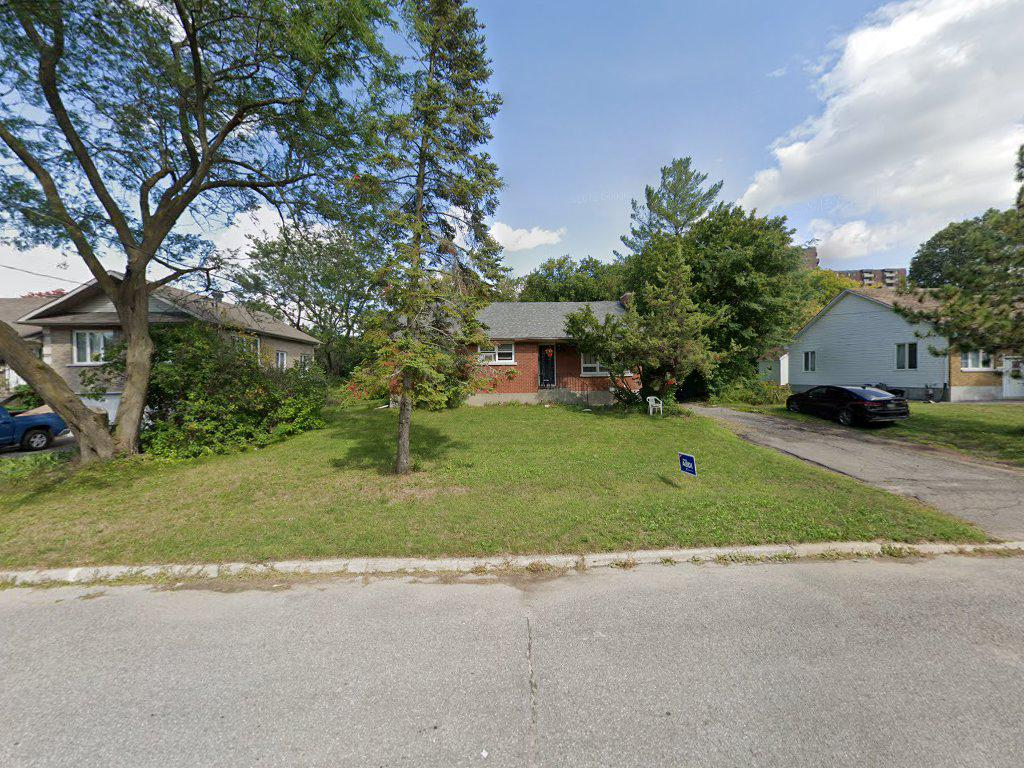trunk: (48, 323, 160, 478), (396, 371, 419, 486)
